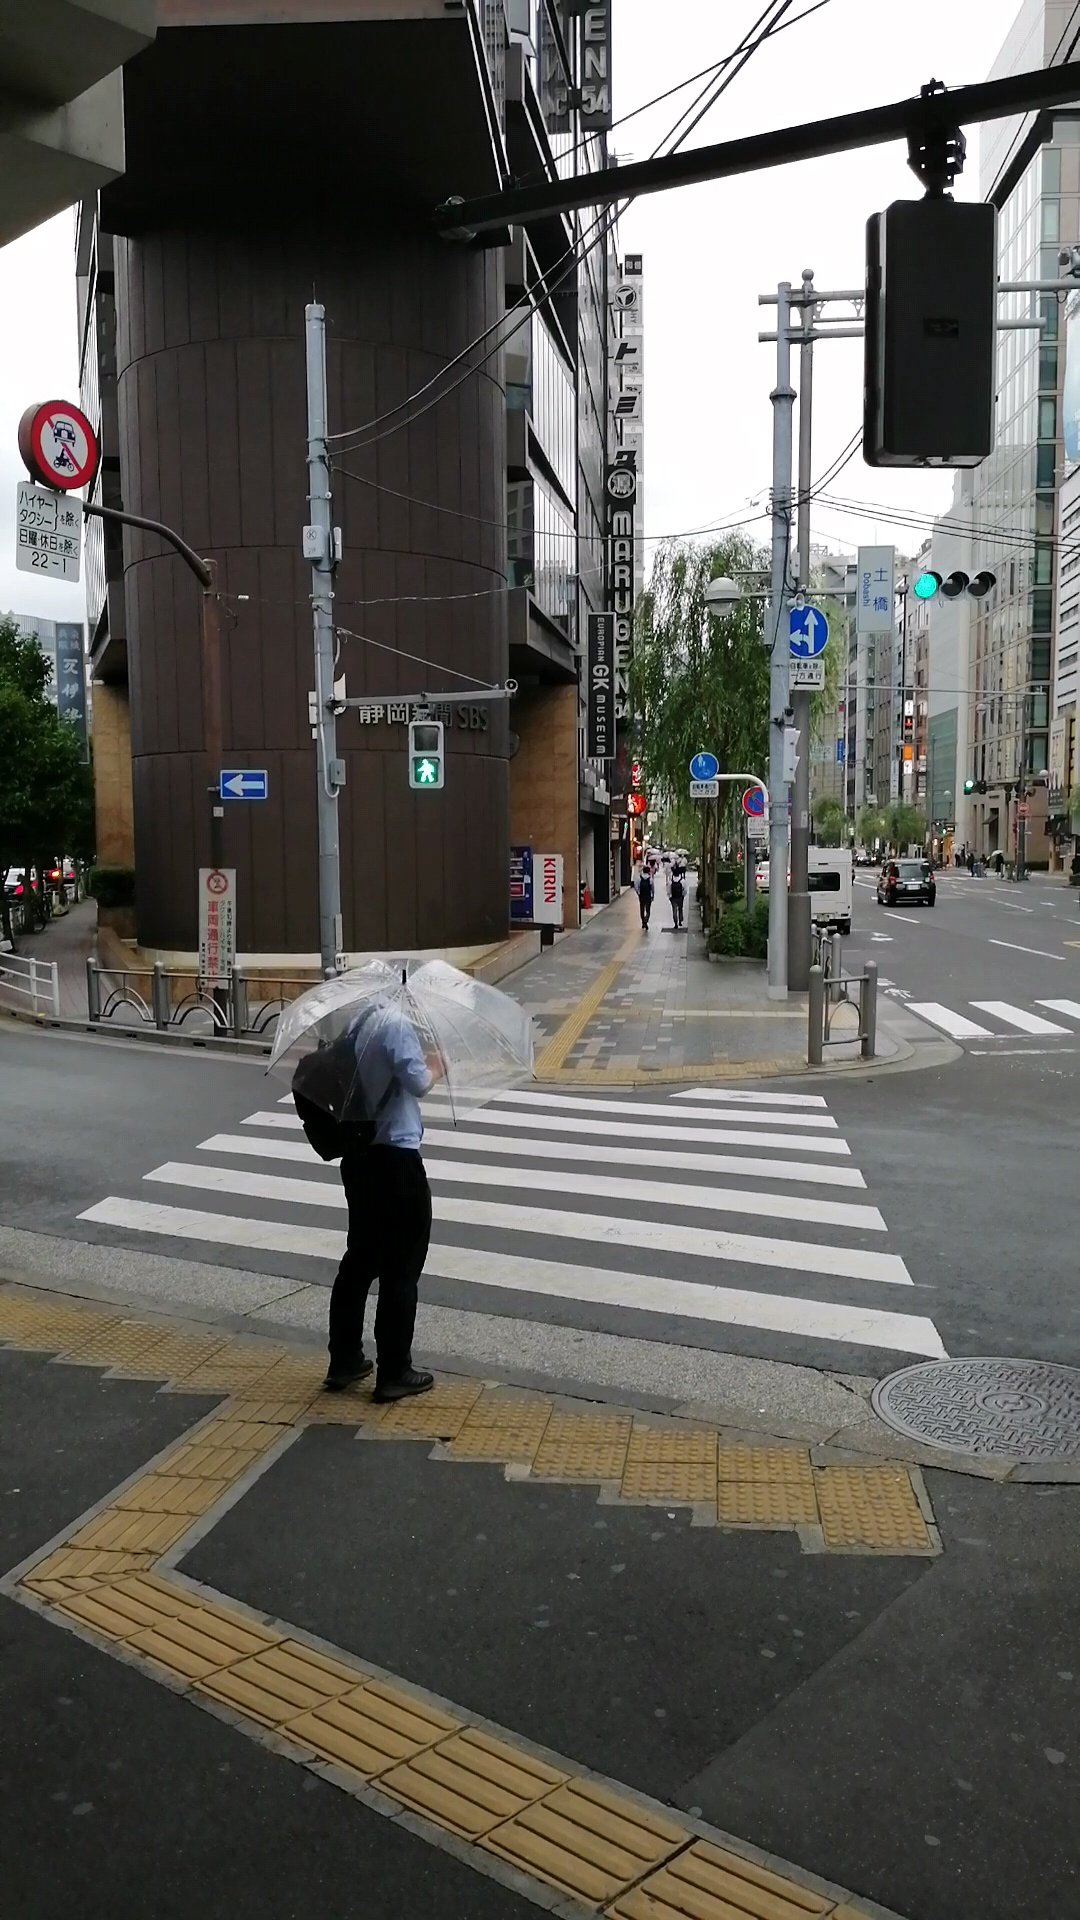green: (405, 720, 446, 794)
